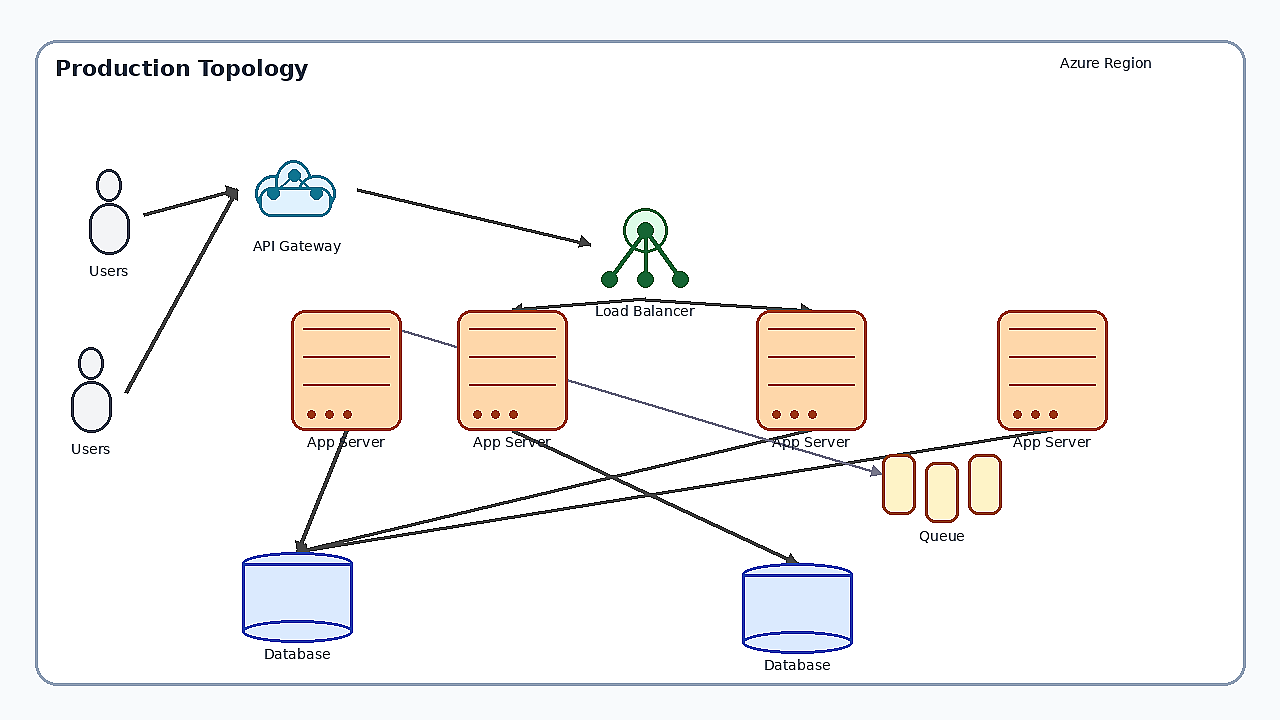API Gateway: (237, 144, 357, 234)
Application Server: (756, 310, 866, 430), (997, 310, 1107, 430), (291, 310, 401, 430), (457, 310, 567, 430)
Database: (742, 563, 852, 653), (242, 552, 352, 642)
Load Balancer: (590, 189, 700, 299)
Message Queue: (882, 454, 1002, 524)
User: (56, 347, 126, 437), (74, 169, 144, 259)
